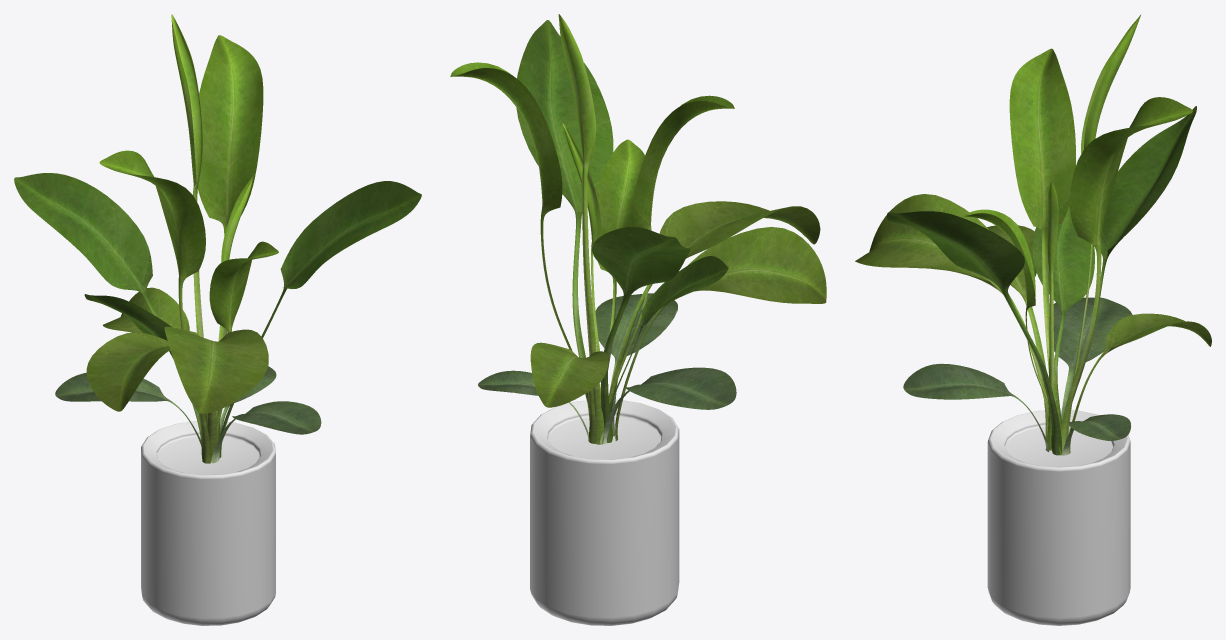
File: 3d_plant_model__indoor_decorative_plant.glb
3 renders of one model, left to right at view 1: azimuth 30°, elevation 25°; view 2: azimuth 150°, elevation 25°; view 3: azimuth 270°, elevation 25°, orthographic. The views are drawn at different scales.
Parts seen in each view (by area): view 1: plant_lambert2_0, concrete_pot_lambert3_0; view 2: plant_lambert2_0, concrete_pot_lambert3_0; view 3: plant_lambert2_0, concrete_pot_lambert3_0.
Boxes of the visible parts, x1,y1,x2,y2 form: plant_lambert2_0: [14, 14, 421, 463]; concrete_pot_lambert3_0: [141, 421, 275, 625]; plant_lambert2_0: [450, 14, 826, 444]; concrete_pot_lambert3_0: [530, 399, 679, 625]; plant_lambert2_0: [855, 15, 1211, 455]; concrete_pot_lambert3_0: [987, 409, 1130, 625].
Bounding box in the file's own units: 0.9757 × 1.81 × 0.9984.
4 materials, 2 textured.
